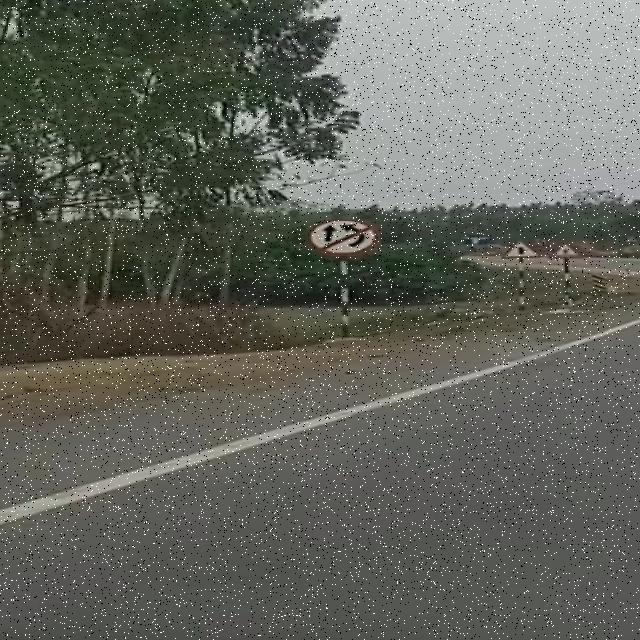No_overtaking: (310, 218, 380, 257)
Pedestrain_crossing: (552, 243, 580, 258)
Sideroad_toright: (502, 242, 537, 259)
